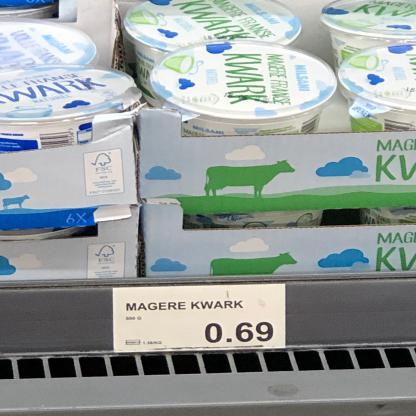prtg: (115, 285, 288, 353)
